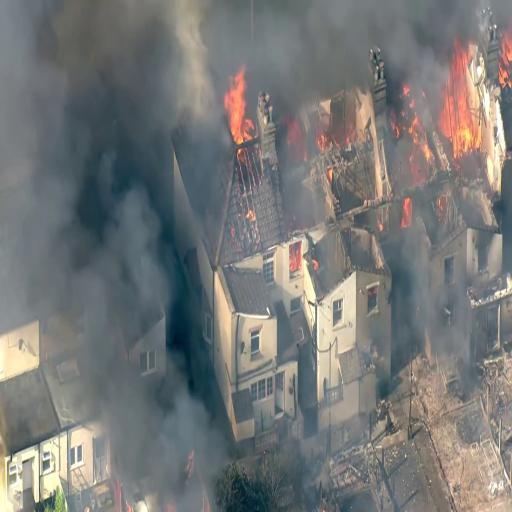fire: (439, 44, 477, 155), (225, 75, 259, 142)
smoke: (63, 0, 189, 151), (0, 0, 74, 241), (79, 180, 180, 316), (139, 388, 217, 494)
